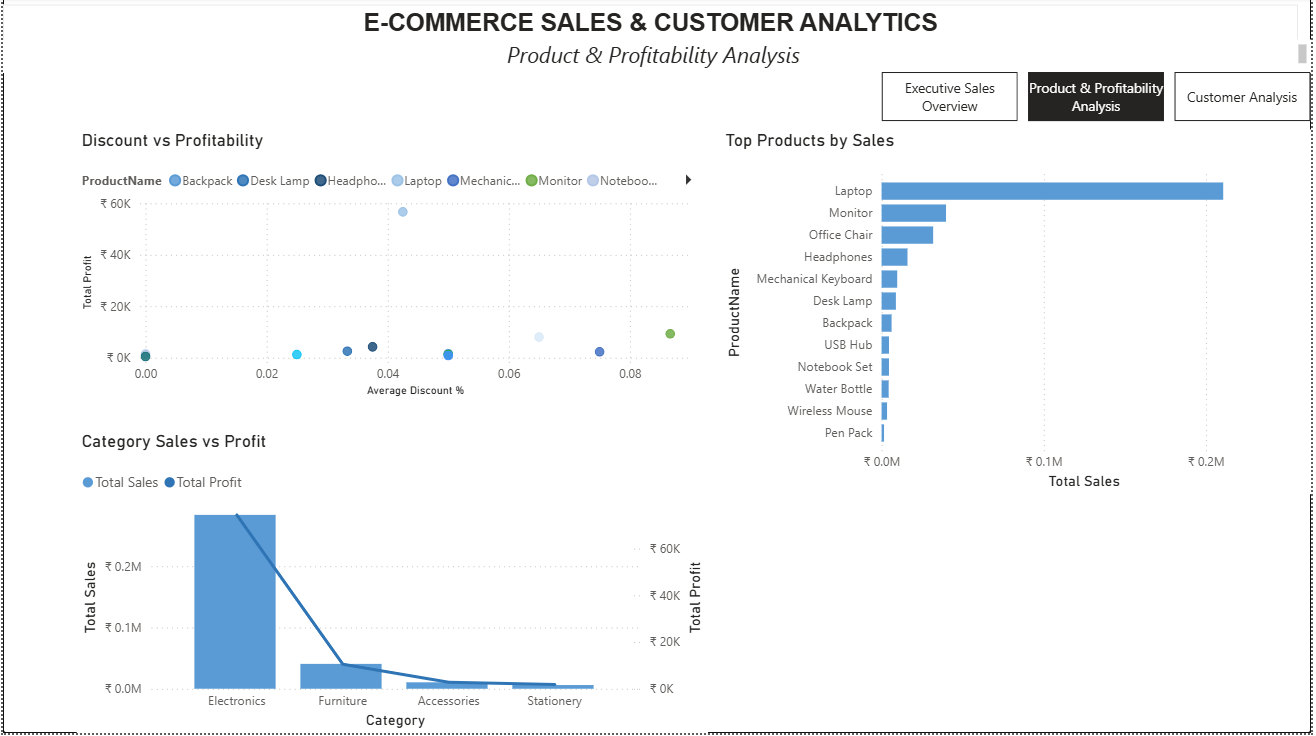

This screenshot's page, from the dashboard's own definition file:
{"tool":"powerbi","page":{"name":"Product & Profitability Analysis","canvas":[1280,720],"ordinal":1},"visuals":[{"type":"clusteredBarChart","title":"Top Products by Sales","fields":{"Category":["Products.ProductName"],"Y":["Order_Details.Total Sales"]},"box":[701.9,129.6,578.4,357.1],"z":0},{"type":"lineClusteredColumnComboChart","title":"Category Sales vs Profit","fields":{"Category":["Products.Category"],"Y":["Order_Details.Total Sales"],"Y2":["Order_Details.Total Profit"]},"box":[72.1,424.3,617.5,295.9],"z":1000},{"type":"scatterChart","title":"Discount vs Profitability","fields":{"X":["Order_Details.Average Discount %"],"Y":["Order_Details.Total Profit"],"Series":["Products.ProductName"]},"box":[72.1,129.6,617.5,266.6],"z":2000},{"type":"textbox","box":[0,7.3,1266.9,48.9],"z":3000},{"type":"textbox","box":[0,41.6,1280.3,33],"z":4000},{"type":"pageNavigator","box":[859.7,73.4,420.7,48.9],"z":4001}]}

Visuals, with their boxes in screenshot pixels (x1, y1, x2, y2), scaled from the page's 1280x720 canvas onto the 1316x736 screenshot:
"Top Products by Sales" clusteredBarChart: <bbox>722, 132, 1315, 498</bbox>
"Category Sales vs Profit" lineClusteredColumnComboChart: <bbox>74, 434, 709, 735</bbox>
"Discount vs Profitability" scatterChart: <bbox>74, 132, 709, 405</bbox>
textbox: <bbox>0, 7, 1303, 57</bbox>
textbox: <bbox>0, 43, 1315, 76</bbox>
pageNavigator: <bbox>884, 75, 1315, 125</bbox>
